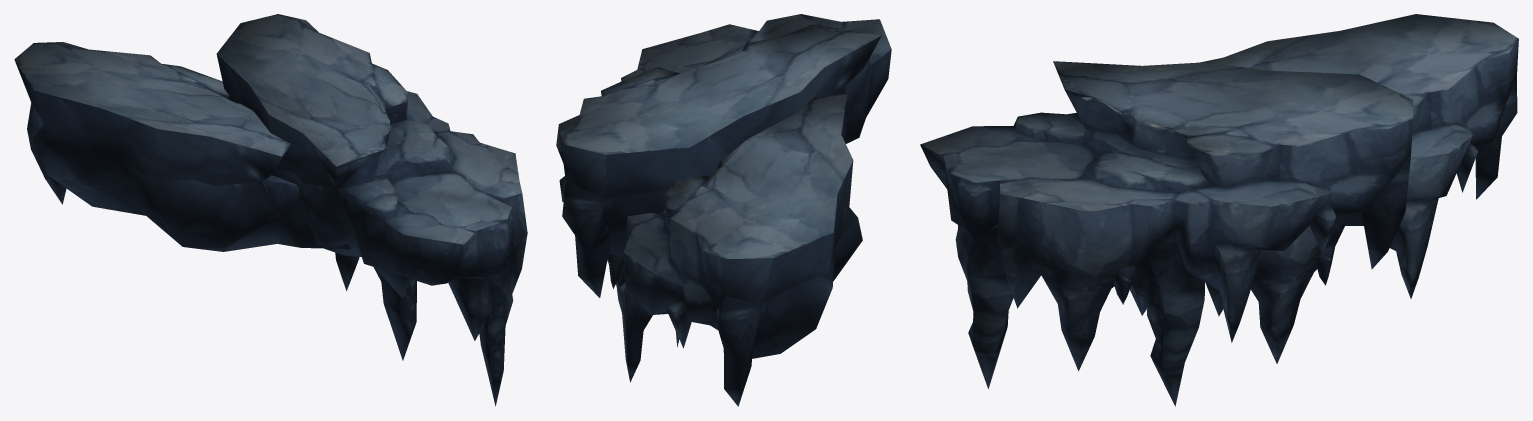
Rendered from Area_13_17.fbx.
3 renders of one model, left to right at view 1: azimuth 30°, elevation 25°; view 2: azimuth 150°, elevation 25°; view 3: azimuth 270°, elevation 25°, orthographic. The views are drawn at different scales.
Parts seen in each view (by area): view 1: Area_13_17; view 2: Area_13_17; view 3: Area_13_17.
Part boxes in pixels (left/top/right/bottom): Area_13_17: left=14, top=14, right=527, bottom=406; Area_13_17: left=556, top=14, right=891, bottom=406; Area_13_17: left=920, top=14, right=1518, bottom=406.
Size of the model in its own units: 1842 by 1442 by 2778.
